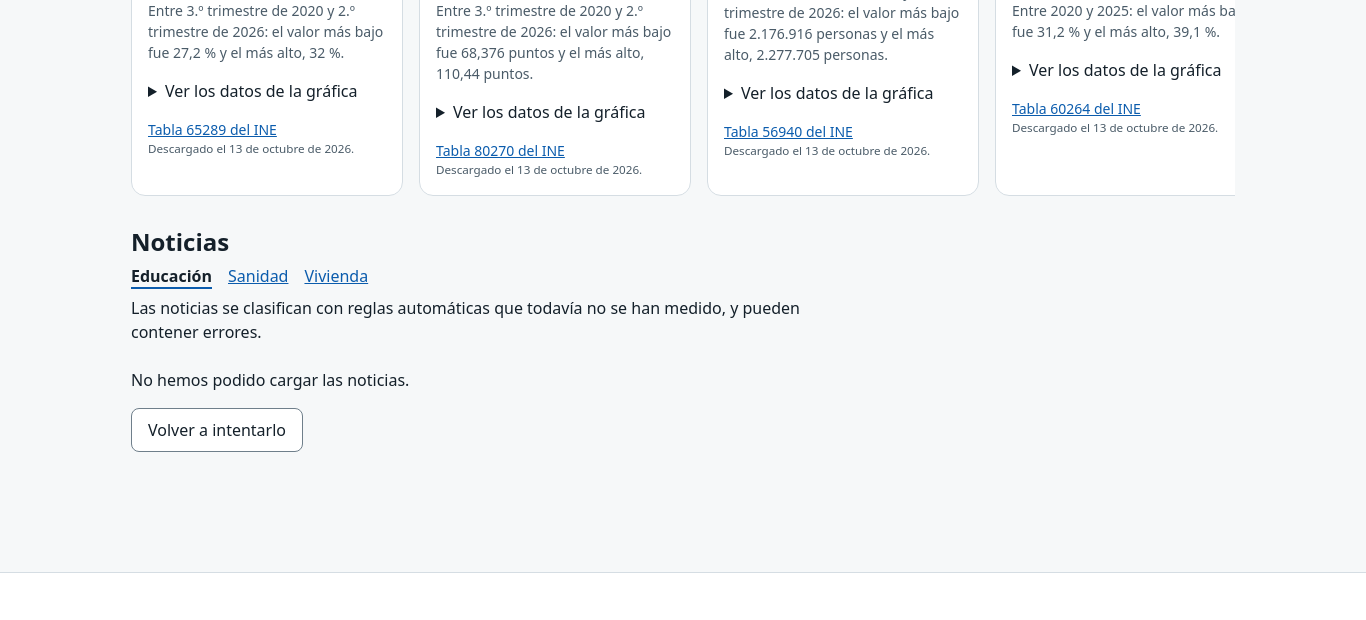
news of a community › shows an error with a retry in the section when the news cannot be loaded
The width and height of the screenshot is (1366, 620).
(page scrolled)
Step 1. Click the link "Sanidad" → (258, 276), box [228,265,288,287]
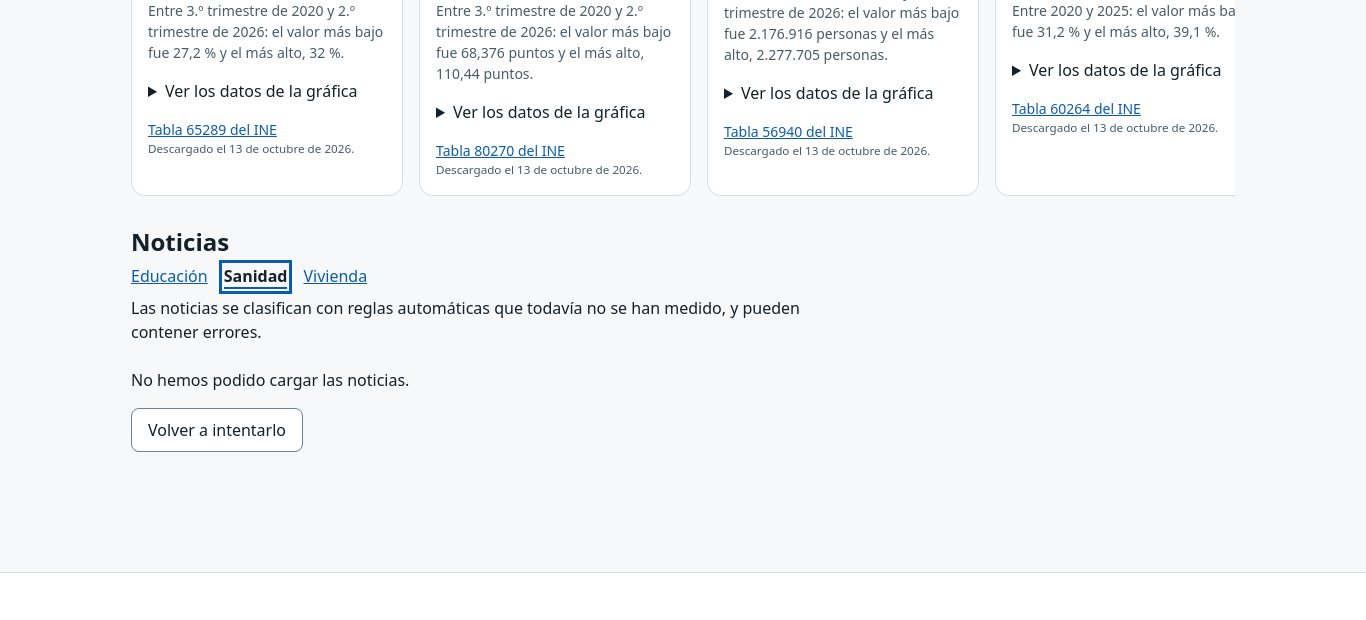
Check: the message shows "No hemos podido cargar las noticias.", box [131,369,409,391]
Step 2. Click the button "Volver a intentarlo" → (217, 430), box [131,408,303,452]
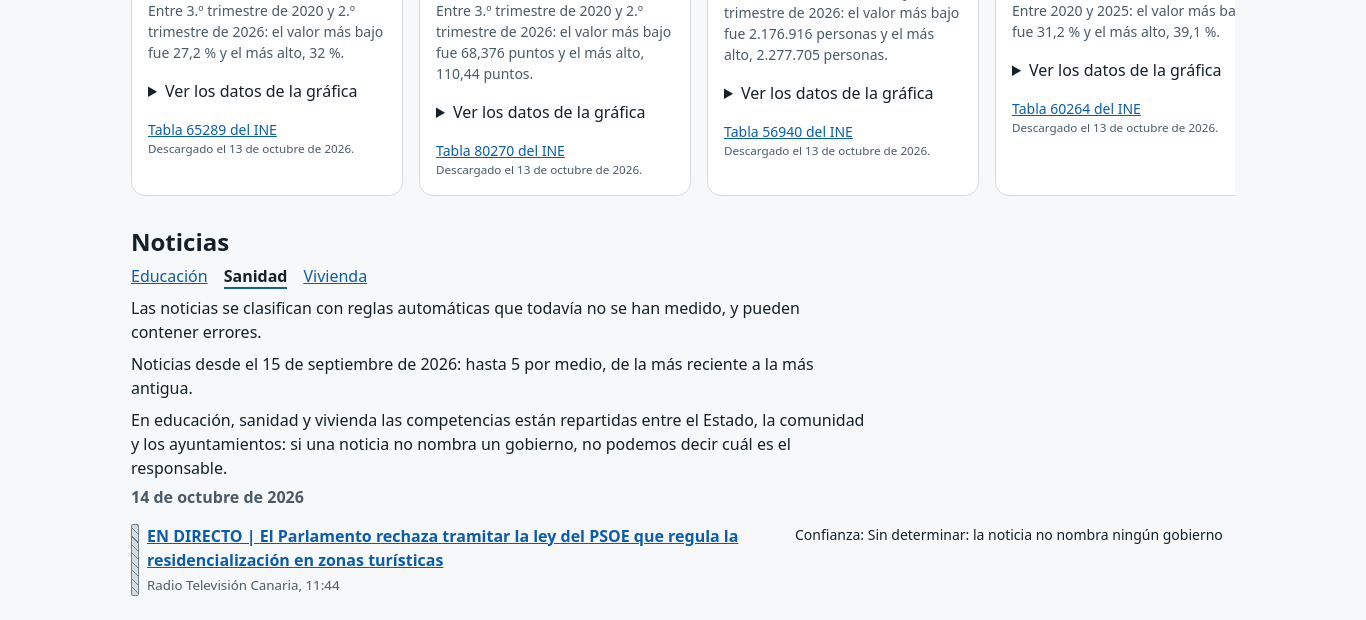
Check: the text "Noticias desde el" is shown, box [131,353,814,399]
